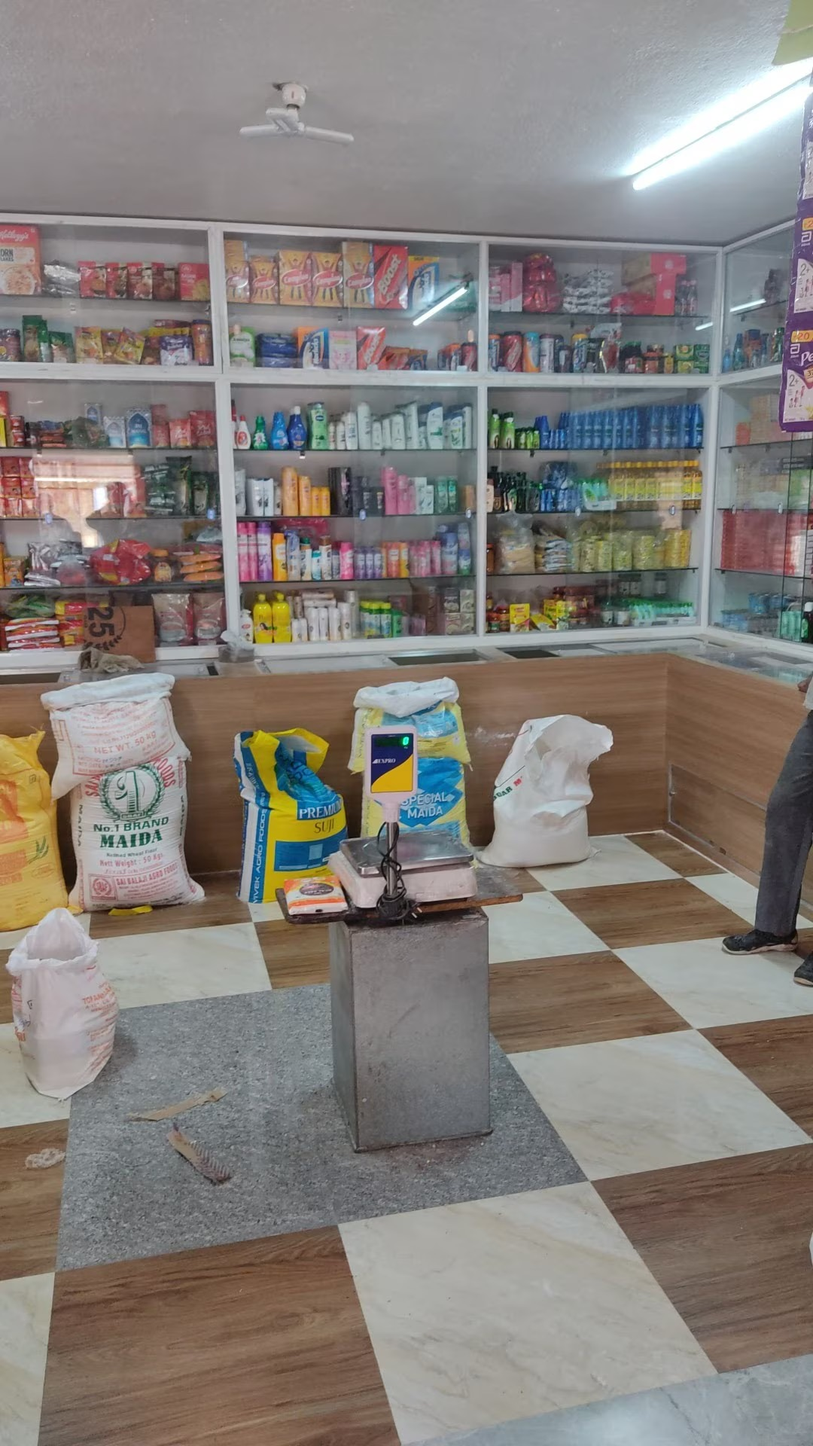parachute: (716, 361, 784, 392)
